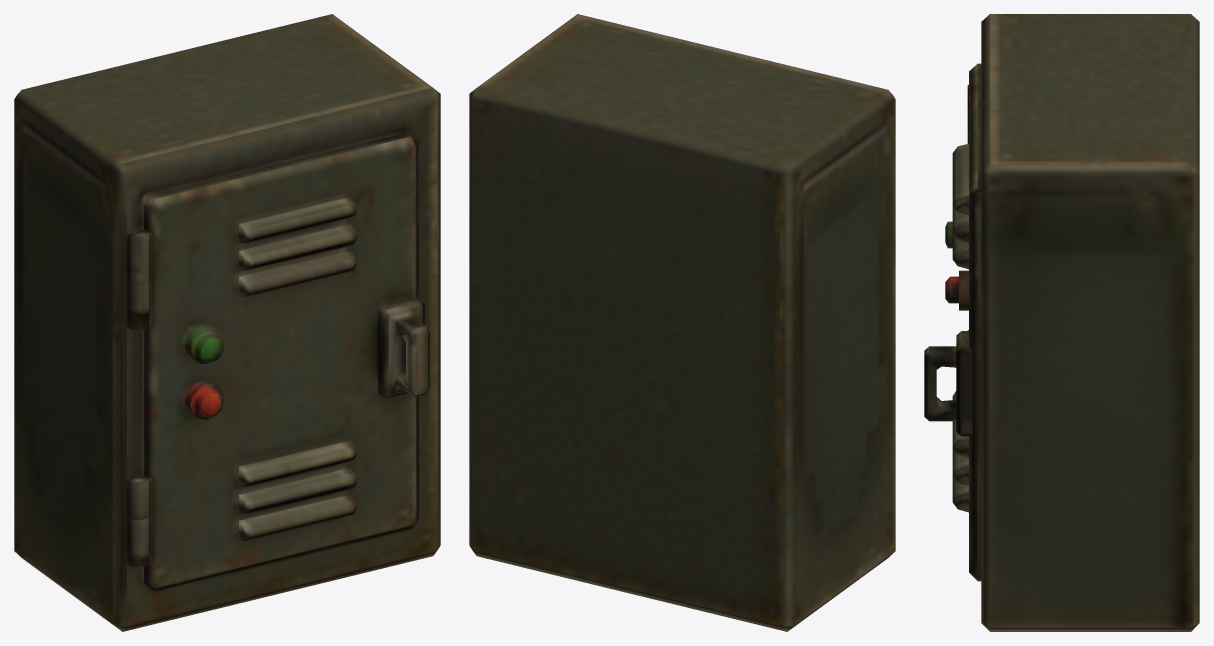
Rendered from electrical_control_cabinet.fbx.
3 views of the same model, side by side, from view 1: azimuth 30°, elevation 25°; view 2: azimuth 150°, elevation 25°; view 3: azimuth 270°, elevation 25° (orthographic).
Visible parts, largest first — view 1: electrical_control_cabinet; view 2: electrical_control_cabinet; view 3: electrical_control_cabinet.
Boxes of the visible parts, x1=… form: electrical_control_cabinet: x1=14, y1=14, x2=440, y2=631; electrical_control_cabinet: x1=469, y1=14, x2=895, y2=631; electrical_control_cabinet: x1=924, y1=14, x2=1199, y2=631.
Size of the model in its own units: 63.59 by 87.38 by 46.74.
